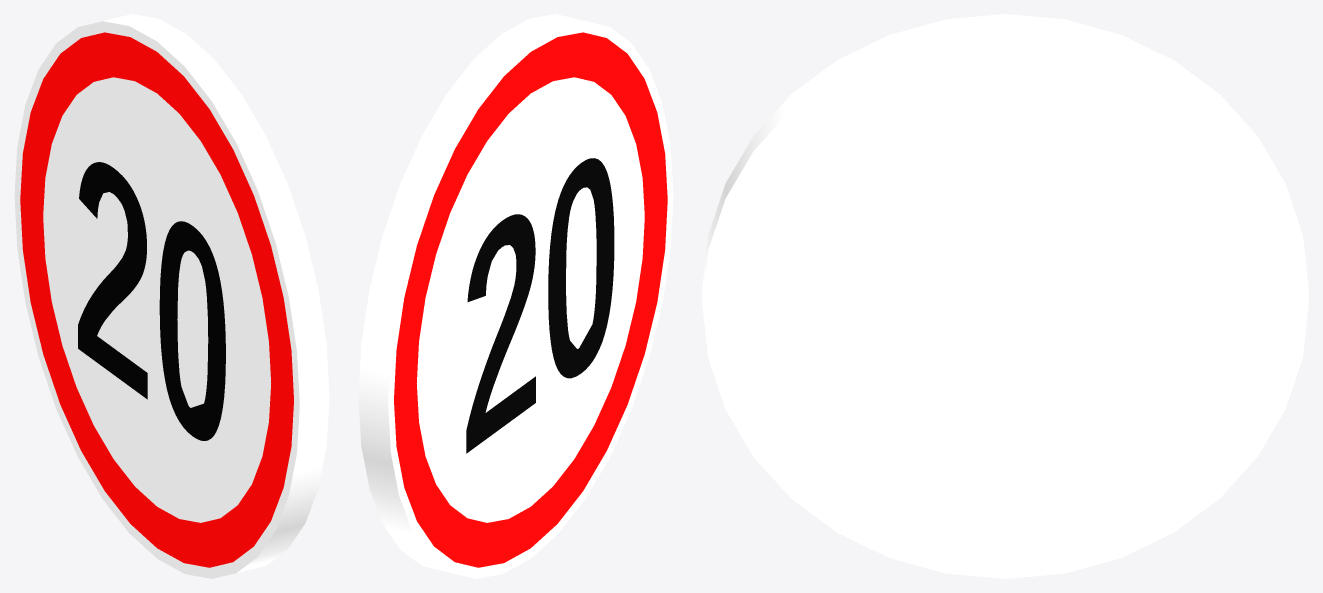
Rendered from Speed_Limit_20.glb.
3 renders of one model, left to right at view 1: azimuth 30°, elevation 25°; view 2: azimuth 150°, elevation 25°; view 3: azimuth 270°, elevation 25°, orthographic. The views are drawn at different scales.
Visible parts, largest first — view 1: Speed_Limit_20; view 2: Speed_Limit_20; view 3: Speed_Limit_20.
Boxes of the visible parts, x1,y1,x2,y2 form: Speed_Limit_20: (14, 14, 329, 578); Speed_Limit_20: (358, 14, 673, 578); Speed_Limit_20: (702, 14, 1308, 578).
Bounding box in the file's own units: 0.075 × 1 × 1.
